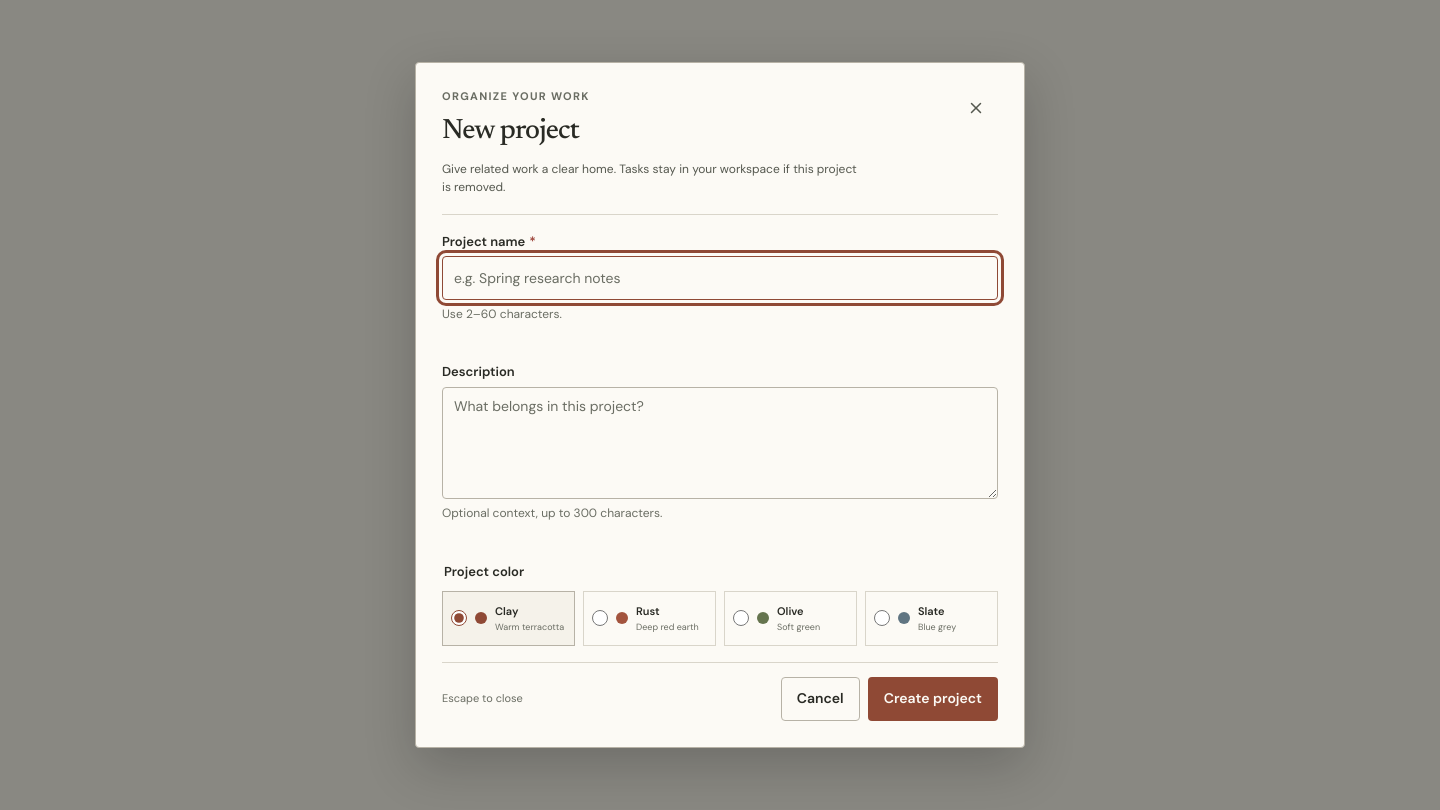
Test: ProjectFormDialog › focuses the required name, explains the exact validation error, and creates nothing
The width and height of the screenshot is (1440, 810).
Click the button "Create project" at (933, 699), box top-left (868, 677), bottom-right (998, 721)
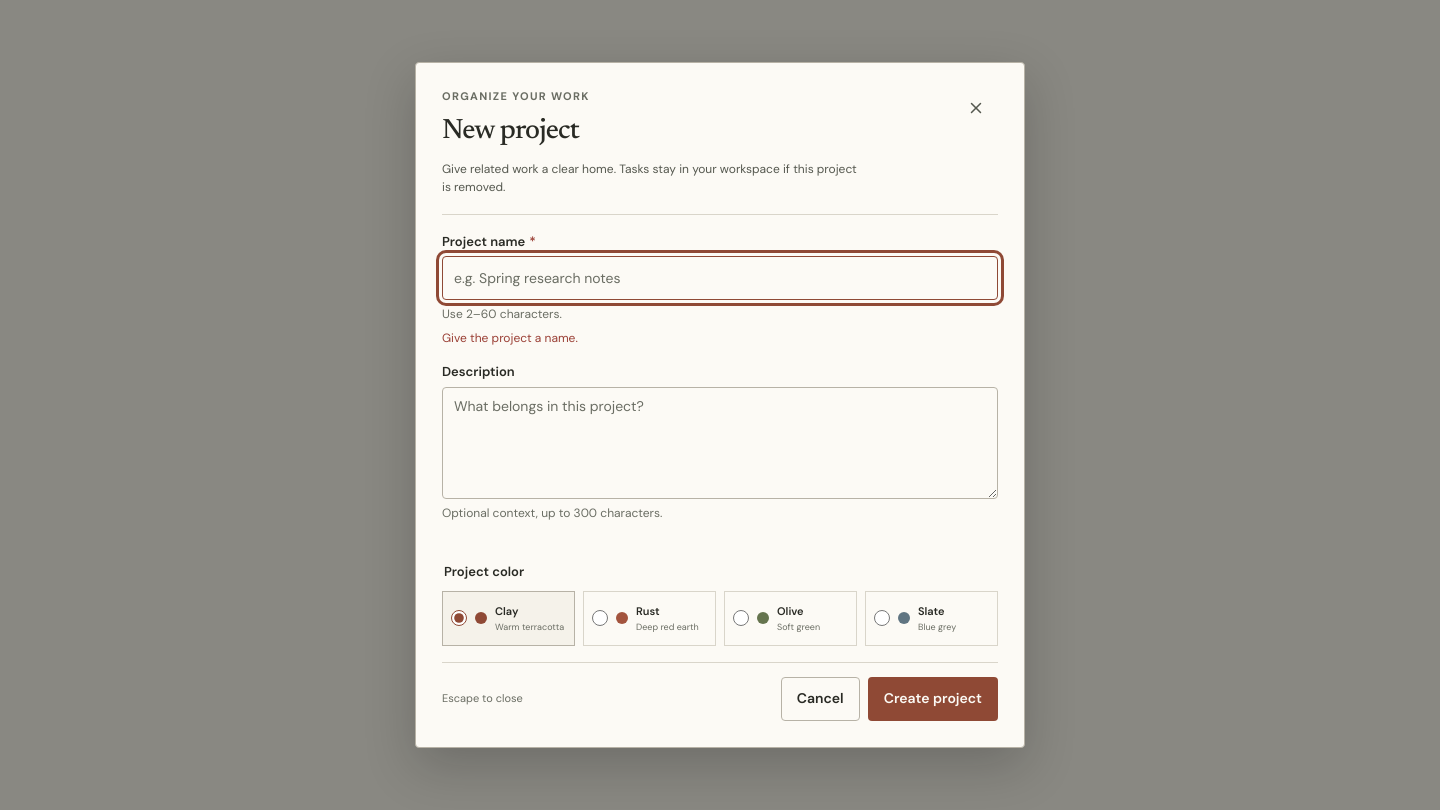
Now the text "Give the project a name." is shown, box top-left (442, 330), bottom-right (578, 346)
